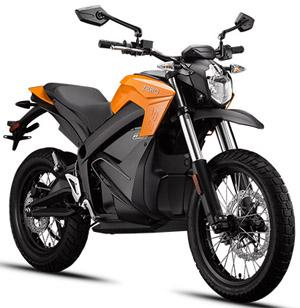motorbike: (3, 4, 295, 304)
